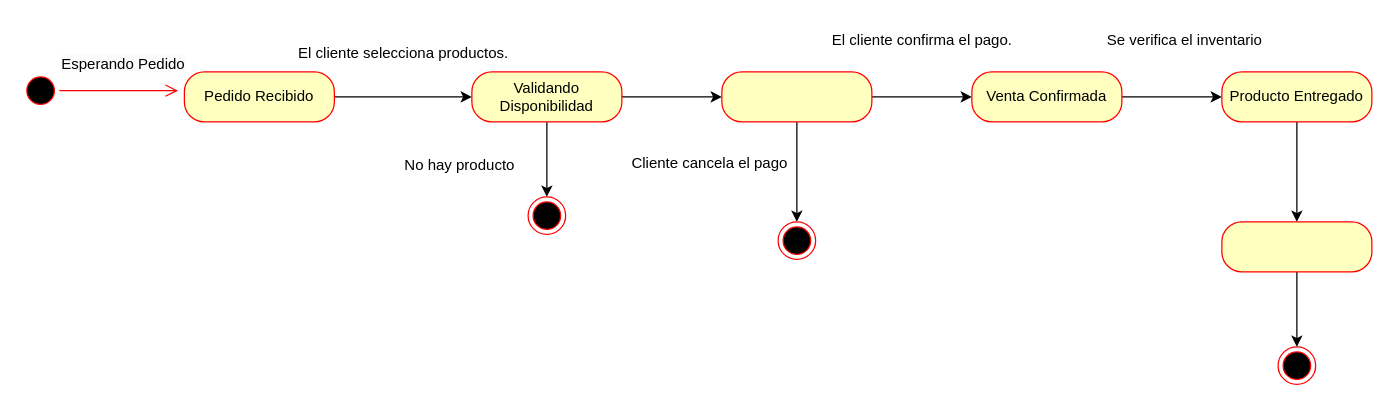
The diagram is 1394 pixels wide and 406 high, and some of its shapes have lost their labels. Here are the shapes that lost their labels. From the top down, the centre of each, then its label:
pixel 796 96: Esperando Confirmación de Pago
pixel 1296 246: Venta Finalizada
